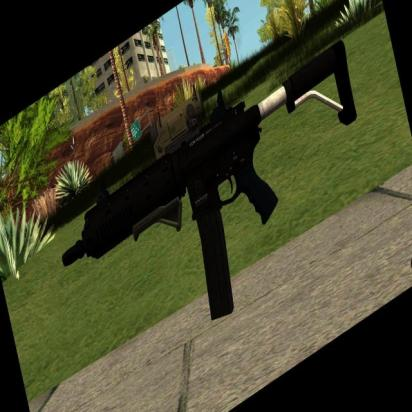Gun: (57, 33, 358, 322)
